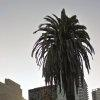Palm tree: (30, 6, 96, 88)
